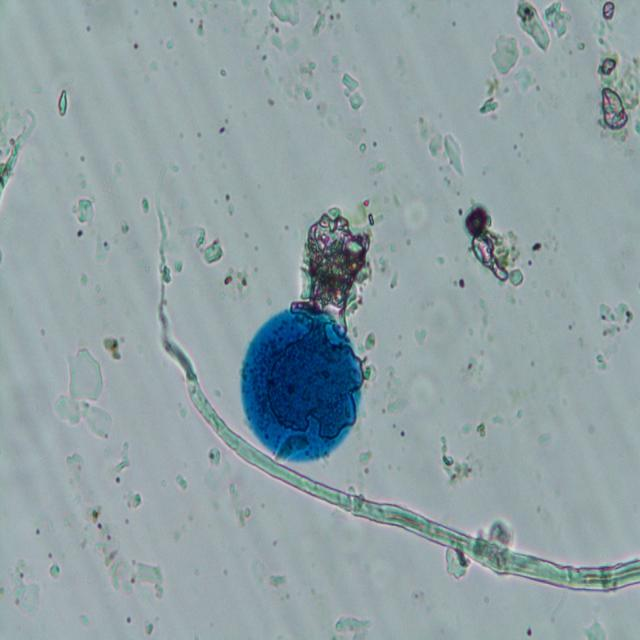Background material: (290, 197, 379, 313), (83, 500, 165, 601), (457, 201, 525, 286), (55, 344, 113, 441), (591, 47, 640, 147), (0, 100, 38, 208), (460, 299, 496, 389), (418, 117, 465, 180), (594, 298, 634, 372), (516, 0, 571, 52), (318, 93, 366, 152), (420, 295, 460, 365), (438, 433, 482, 490), (5, 553, 43, 617), (390, 182, 430, 236), (178, 225, 224, 264), (403, 373, 441, 418), (588, 0, 617, 47), (222, 262, 253, 303), (204, 445, 231, 492), (493, 31, 519, 76), (294, 56, 318, 104), (478, 74, 504, 116), (340, 66, 364, 111), (268, 0, 304, 29), (332, 615, 374, 638), (444, 548, 470, 585), (514, 62, 540, 95), (64, 448, 86, 485), (71, 197, 94, 230), (268, 33, 302, 53), (100, 334, 124, 362), (89, 231, 111, 261), (308, 11, 332, 38), (191, 14, 213, 42), (115, 439, 132, 475), (265, 566, 289, 589), (237, 495, 255, 525), (383, 396, 407, 418), (122, 489, 142, 512), (411, 324, 429, 348), (225, 186, 236, 221), (117, 215, 131, 241), (359, 331, 377, 351), (46, 561, 62, 583), (56, 89, 68, 118), (171, 472, 189, 491), (367, 158, 386, 175), (474, 421, 488, 442), (216, 111, 227, 136), (140, 620, 156, 637), (140, 195, 152, 214), (213, 64, 231, 76)
Cellulose filter fibre: (153, 221, 640, 593)
Microbead: (240, 302, 367, 468)
